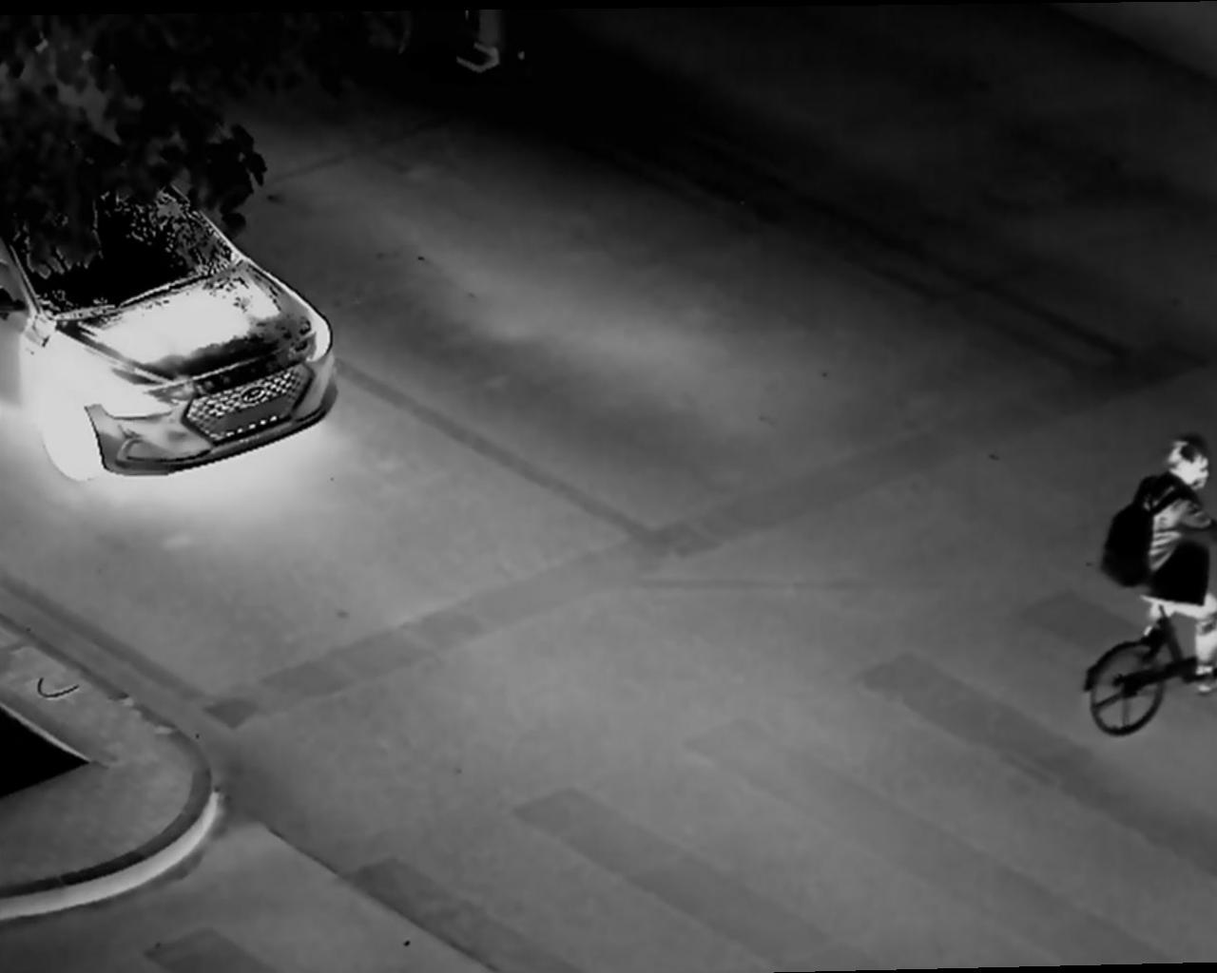person: (1103, 429, 1217, 685)
